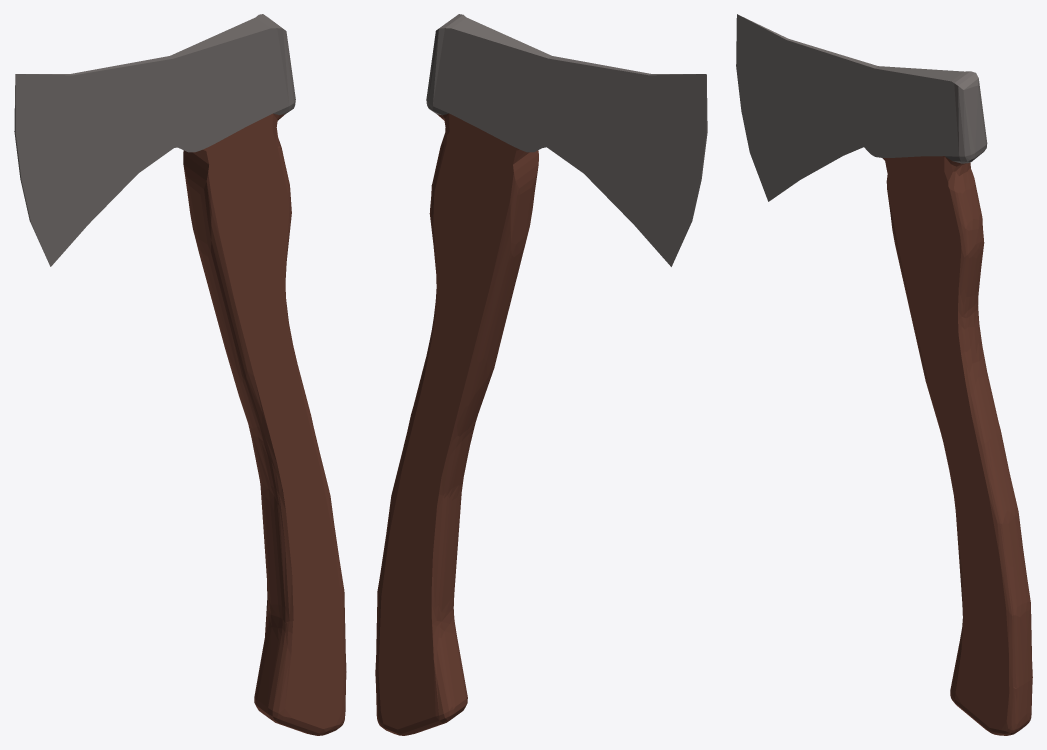
Rendered from axe2.fbx.
3 renders of one model, left to right at view 1: azimuth 30°, elevation 25°; view 2: azimuth 150°, elevation 25°; view 3: azimuth 330°, elevation 25°, orthographic. The views are drawn at different scales.
Visible parts, largest first — view 1: Plane; view 2: Plane; view 3: Plane.
Part boxes in pixels (left/top/right/bottom): Plane: left=14, top=14, right=346, bottom=735; Plane: left=375, top=14, right=707, bottom=735; Plane: left=736, top=14, right=1032, bottom=735.
Size of the model in its own units: 5.9 by 12.67 by 0.79.
